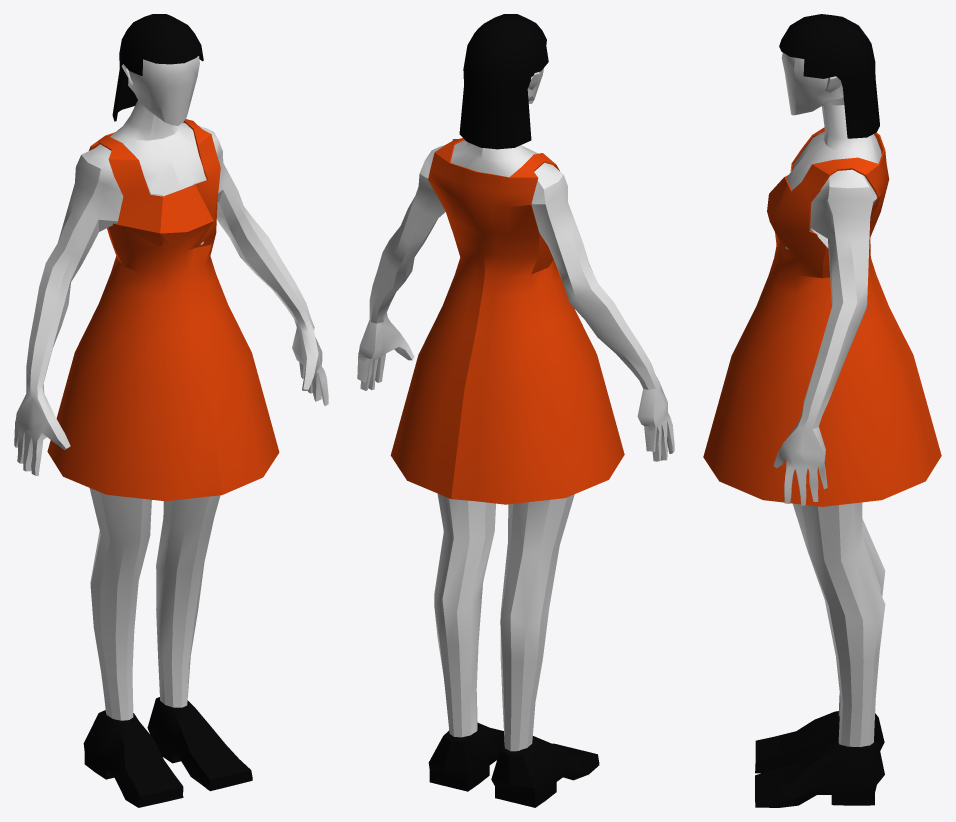
The model's file is Woman.fbx.
The picture shows the model from 3 angles, left to right: view 1: azimuth 30°, elevation 25°; view 2: azimuth 150°, elevation 25°; view 3: azimuth 270°, elevation 25°; orthographic projection.
Visible parts, largest first — view 1: Woman; view 2: Woman; view 3: Woman.
Part boxes in pixels (bbox=[...]): Woman: bbox=[14, 14, 328, 807]; Woman: bbox=[357, 14, 674, 807]; Woman: bbox=[703, 14, 941, 807].
Size of the model in its own units: 134 by 323 by 91.41.
